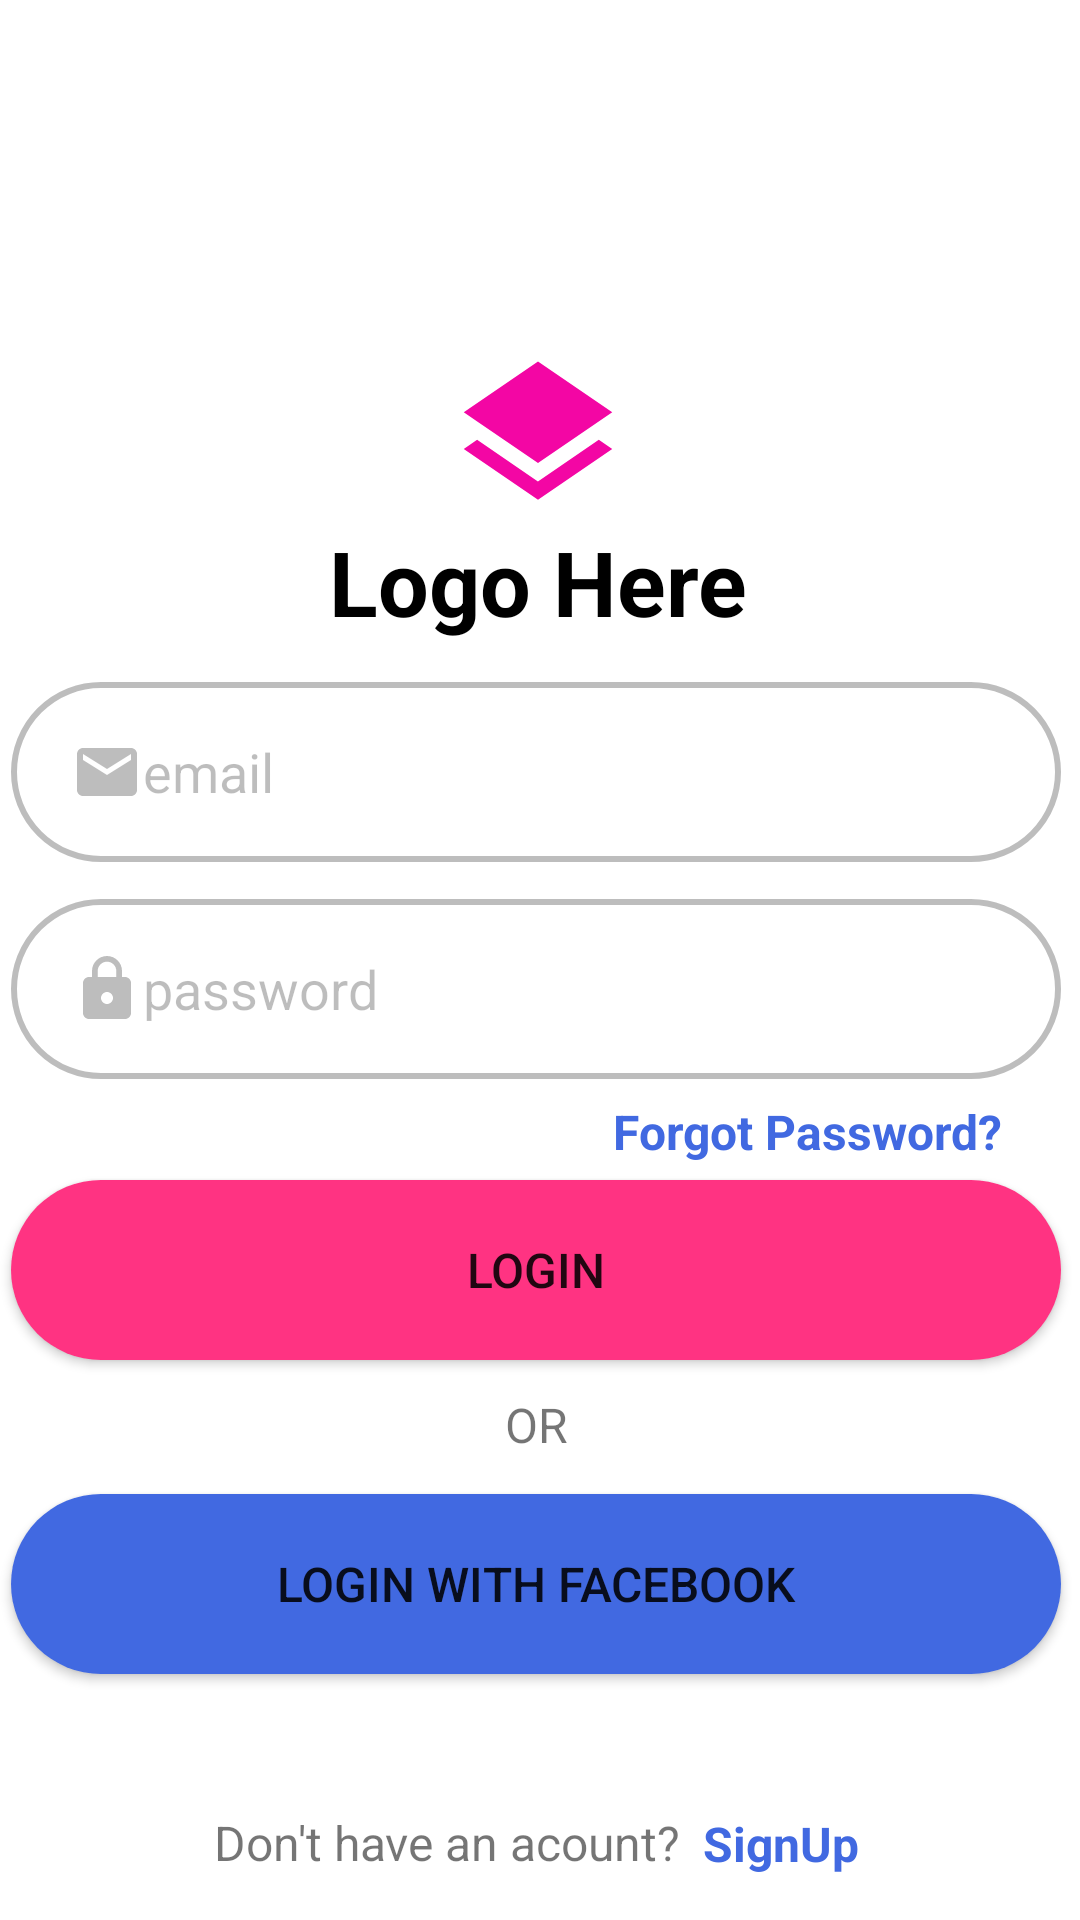

Point at icon controls on the screen. Image size 1080 × 1920, points as point (x, y).
layers: point (538, 430)
